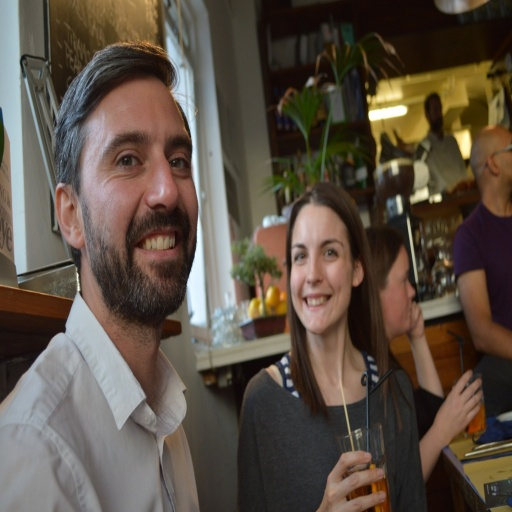hand: (316, 453, 385, 511), (435, 367, 483, 441), (403, 301, 423, 336)
